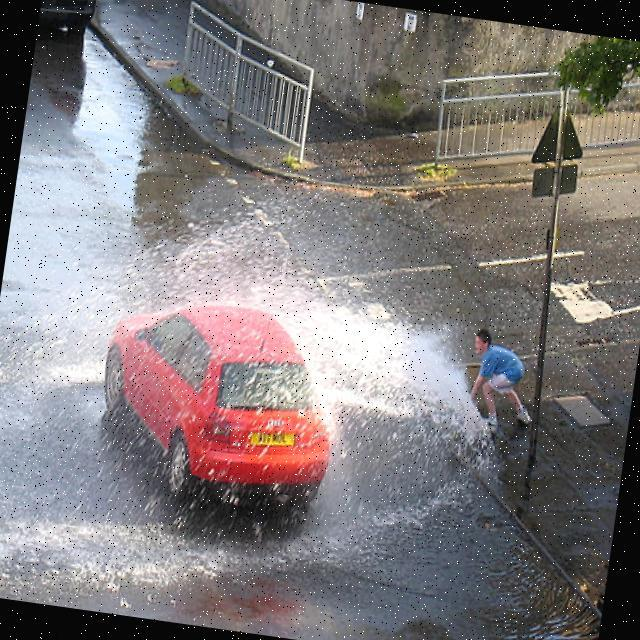fire_hydrant: (467, 408, 501, 474)
